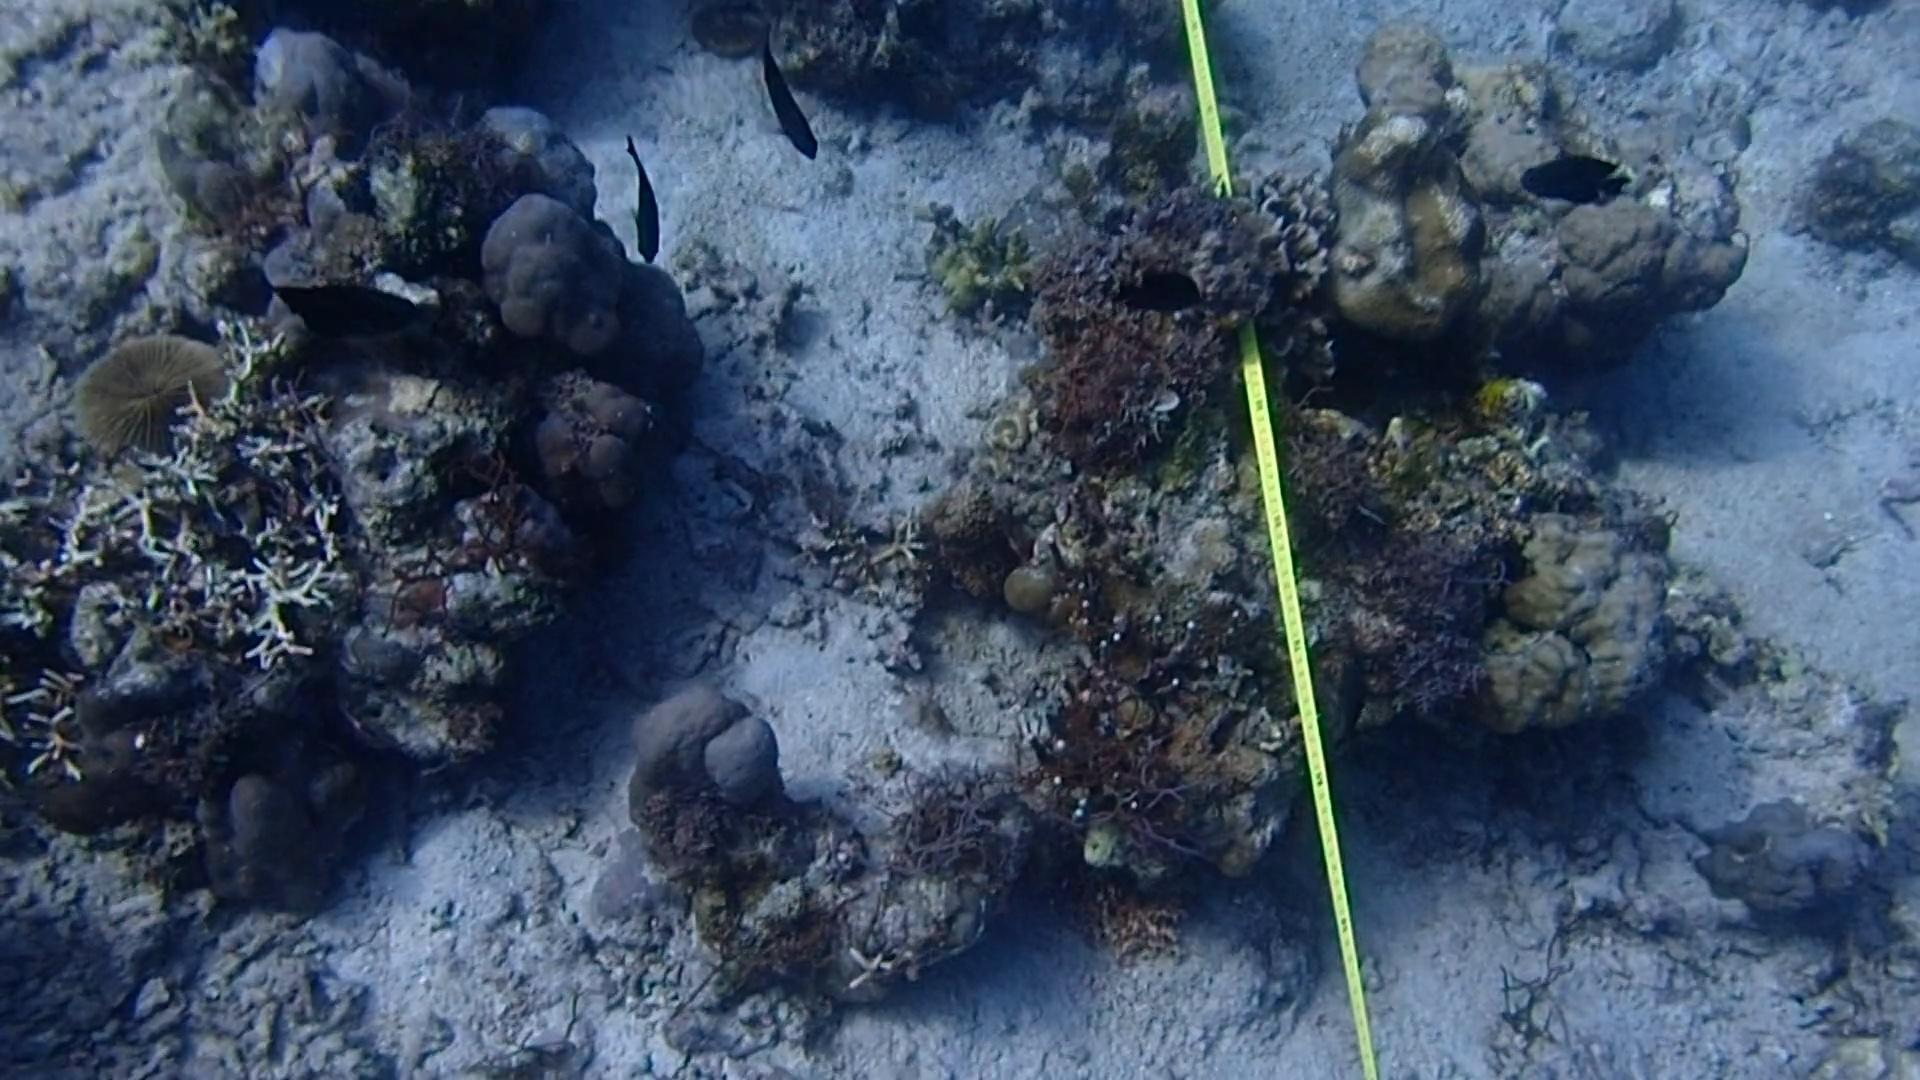Dark Fish: (745, 38, 839, 174), (270, 273, 418, 353), (611, 131, 687, 285), (1501, 145, 1654, 222), (1093, 243, 1220, 335), (1317, 647, 1383, 753)
